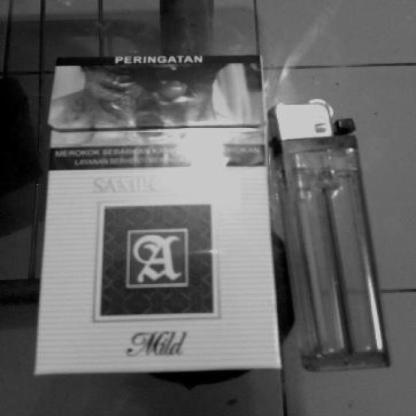objects: (35, 55, 281, 375)
